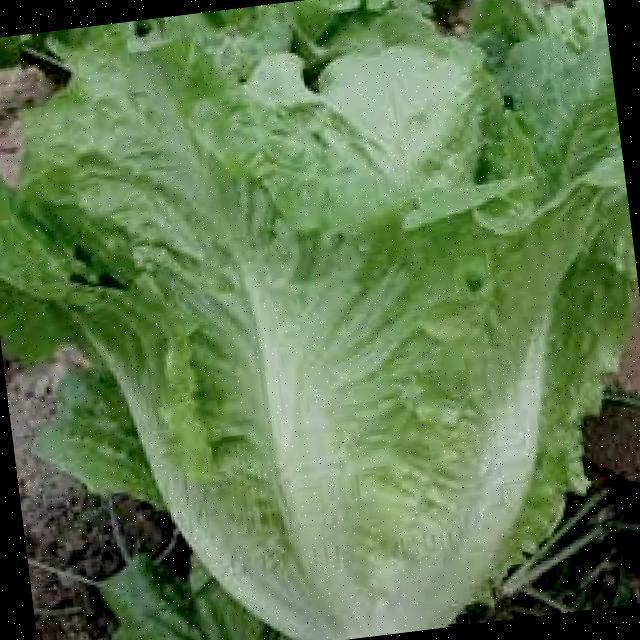Healthy: (83, 13, 625, 607)
